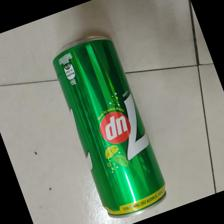7up: (52, 34, 169, 217)
